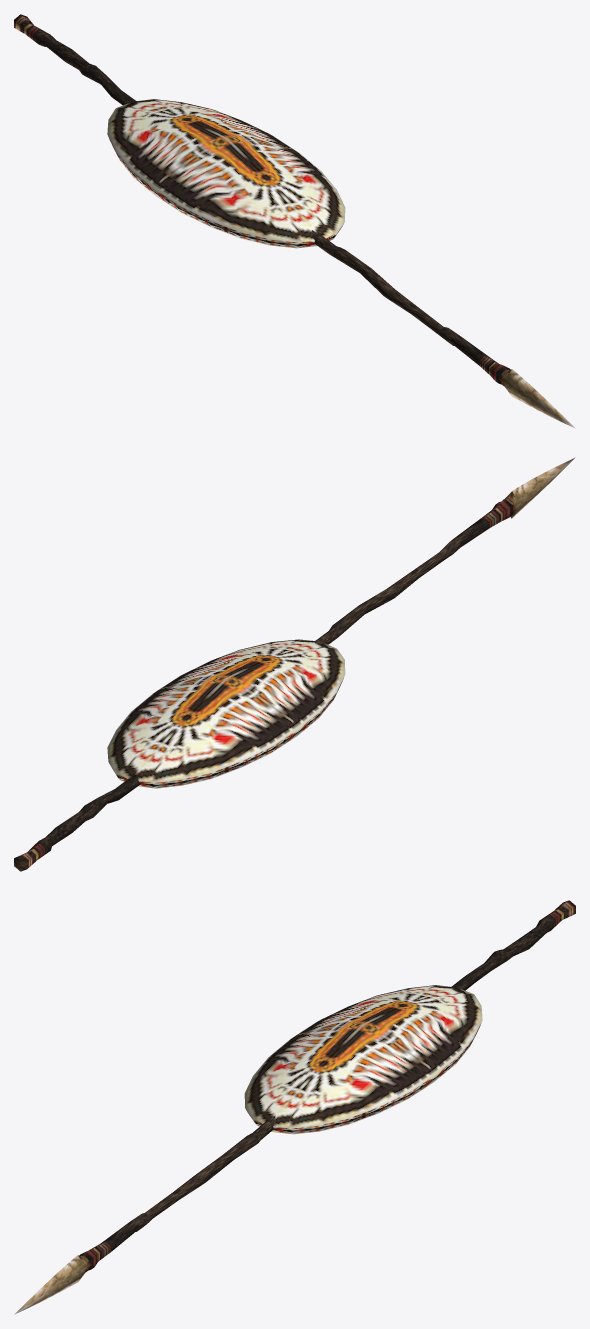
Rendered from we122_amh.OBJ.
The picture shows the model from 3 angles, top to bottom: view 1: azimuth 30°, elevation 25°; view 2: azimuth 150°, elevation 25°; view 3: azimuth 330°, elevation 25°; orthographic projection.
Visible parts, largest first — view 1: mesh_1, mesh_0; view 2: mesh_1, mesh_0; view 3: mesh_1, mesh_0.
Boxes of the visible parts, x1,y1,x2,y2 form: mesh_1: (107,99,345,248); mesh_0: (14,14,575,428); mesh_1: (107,639,345,788); mesh_0: (14,457,575,871); mesh_1: (244,985,482,1134); mesh_0: (14,900,575,1314).
Size of the model in its own units: 58.49 by 18.81 by 388.
1 material, 1 textured.
